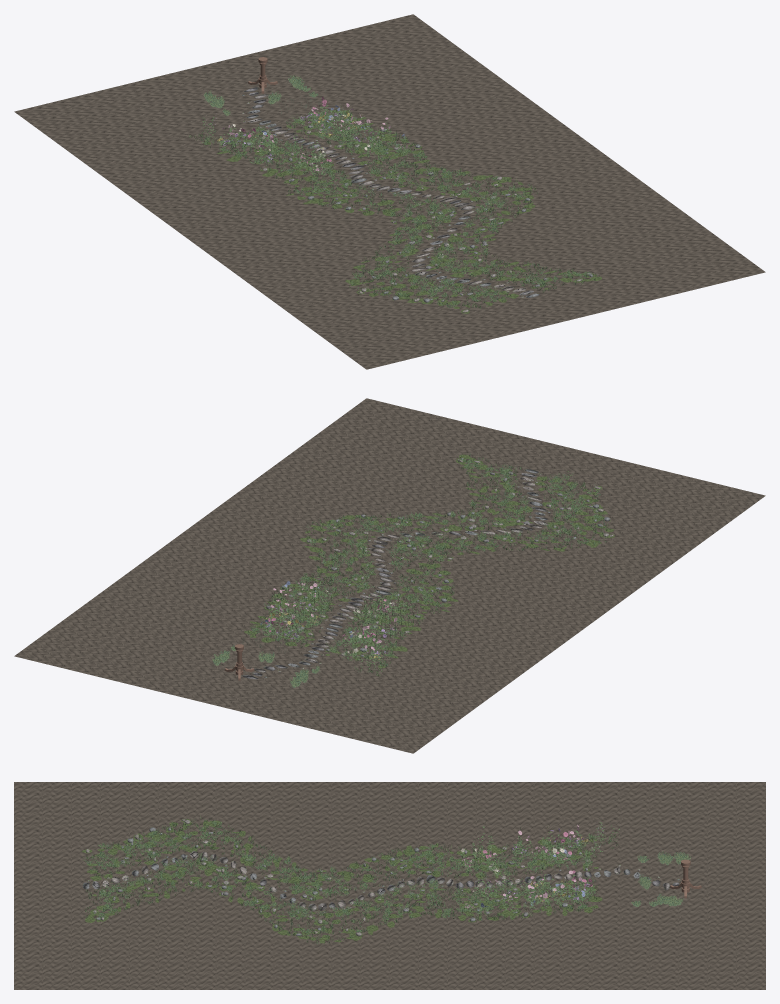
File: garden.glb
3 views of the same model, one above another, from view 1: azimuth 30°, elevation 25°; view 2: azimuth 150°, elevation 25°; view 3: azimuth 270°, elevation 25° (orthographic). The views are drawn at different scales.
Parts seen in each view (by area): view 1: garden part 1, garden part 3, garden part 17; view 2: garden part 1, garden part 3, garden part 17; view 3: garden part 1, garden part 3, garden part 17.
Part boxes in pixels (left/top/right/bottom): garden part 1: left=14, top=14, right=765, bottom=369; garden part 3: left=188, top=75, right=599, bottom=311; garden part 17: left=212, top=96, right=407, bottom=171; garden part 1: left=14, top=398, right=765, bottom=753; garden part 3: left=212, top=453, right=613, bottom=687; garden part 17: left=260, top=581, right=410, bottom=659; garden part 1: left=14, top=782, right=765, bottom=989; garden part 3: left=83, top=815, right=691, bottom=943; garden part 17: left=459, top=822, right=603, bottom=910.
Size of the model in its own units: 34.01 by 2.58 by 52.
6 materials, 4 textured.
